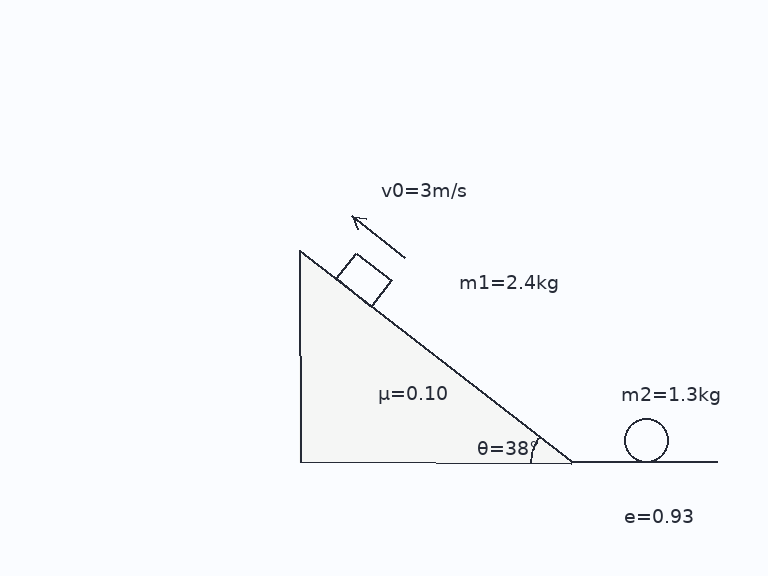ball: (622, 416, 670, 464)
block: (334, 251, 393, 308)
ramp: (298, 248, 573, 464)
